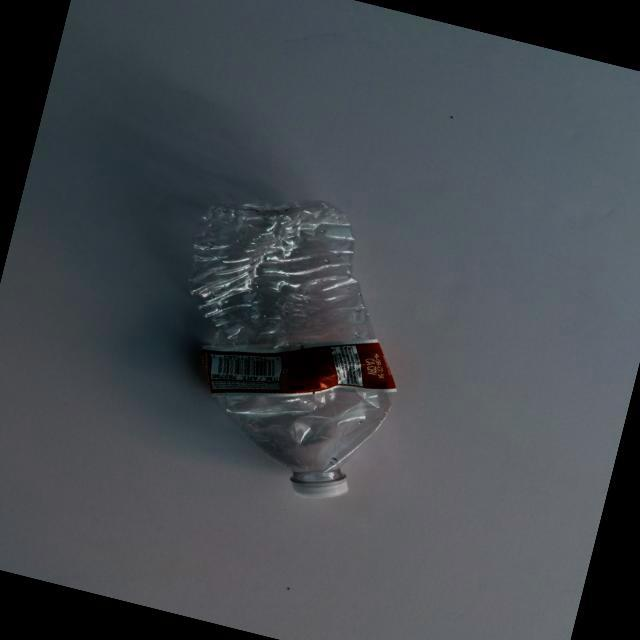plastic: (114, 152, 452, 540)
